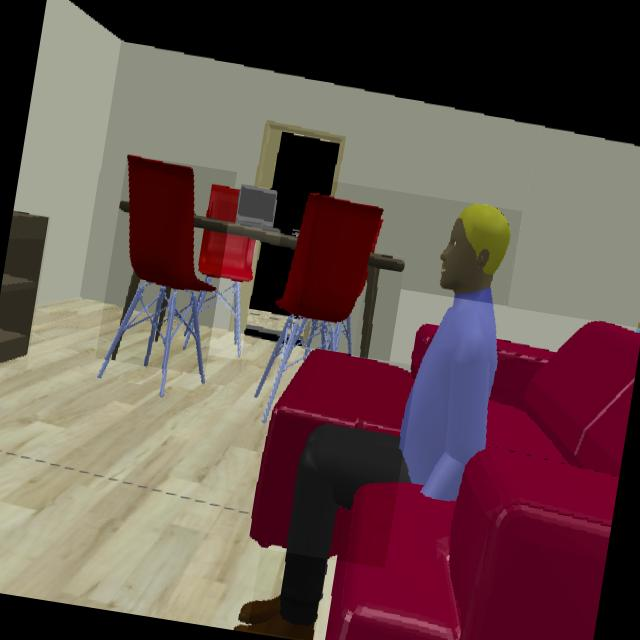chair: (104, 155, 218, 376), (258, 193, 385, 388), (200, 230, 256, 359), (208, 185, 240, 223)
laptop: (236, 185, 282, 235)
person: (247, 204, 510, 640)
shelf: (0, 212, 50, 362)
sofa: (321, 322, 640, 640), (249, 351, 414, 550)
table: (359, 254, 405, 361), (196, 216, 296, 248)
